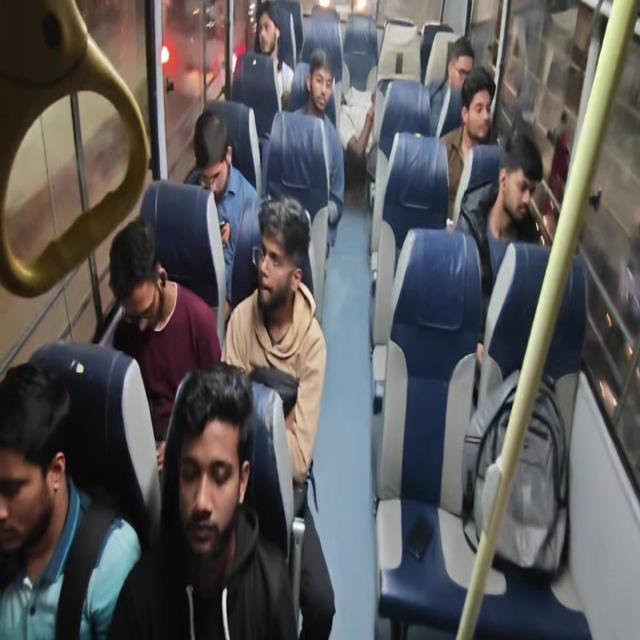person: (0, 375, 75, 570), (113, 220, 195, 383), (183, 400, 240, 571), (249, 213, 300, 321), (197, 106, 238, 203), (514, 125, 546, 228), (464, 56, 500, 146), (255, 1, 285, 76), (340, 86, 370, 147), (444, 31, 479, 82), (314, 62, 341, 128)
